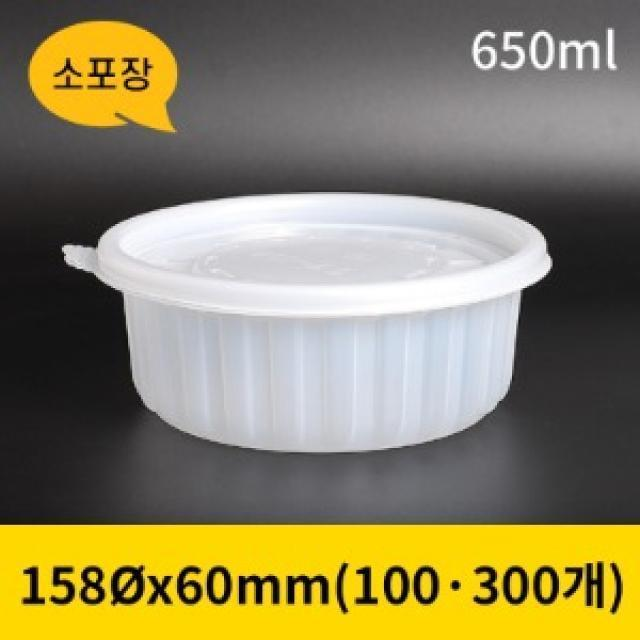disposable: (15, 176, 632, 473)
